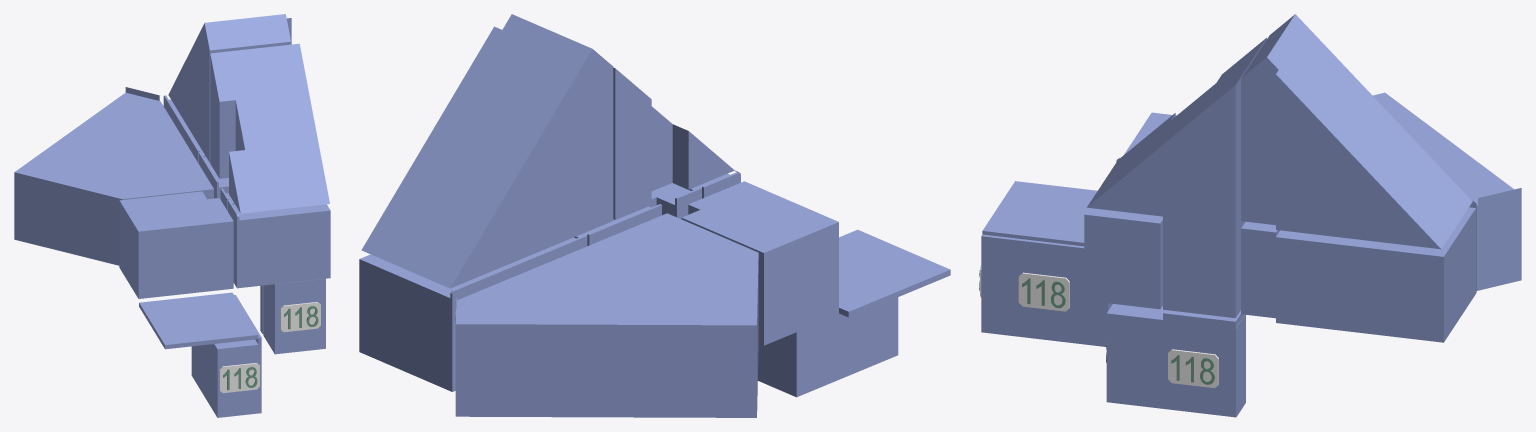
The picture shows the model from 3 angles, left to right: view 1: azimuth 30°, elevation 25°; view 2: azimuth 150°, elevation 25°; view 3: azimuth 270°, elevation 25°; orthographic projection. The views are drawn at different scales.
Visible parts, largest first — view 1: g_5, g_3, g_10, g_9, g_2, g_13, g_1, g_0, g_4, g_29, g_21, g_6 (+1 smaller); view 2: g_5, g_2, g_10, g_6, g_3, g_1, g_13, g_7, g_9; view 3: g_2, g_6, g_1, g_4, g_12, g_5, g_9, g_11, g_3, g_13, g_0, g_8 (+3 smaller).
Part boxes in pixels (x1,y1,x2,y2): g_5: [14, 87, 213, 265]; g_3: [210, 47, 329, 214]; g_10: [119, 191, 233, 298]; g_9: [227, 199, 330, 288]; g_2: [168, 14, 291, 162]; g_13: [139, 292, 258, 349]; g_1: [191, 295, 261, 417]; g_0: [263, 278, 325, 354]; g_4: [267, 43, 314, 125]; g_29: [280, 302, 320, 332]; g_21: [219, 363, 259, 393]; g_6: [163, 95, 205, 163]; g_5: [455, 213, 758, 417]; g_2: [361, 14, 613, 288]; g_10: [681, 181, 838, 345]; g_6: [359, 235, 587, 391]; g_3: [613, 67, 739, 219]; g_1: [758, 297, 898, 397]; g_13: [839, 229, 950, 317]; g_7: [574, 183, 701, 245]; g_9: [673, 172, 740, 198]; g_2: [1241, 14, 1472, 249]; g_6: [1276, 199, 1476, 342]; g_1: [981, 234, 1112, 346]; g_4: [1163, 68, 1246, 225]; g_12: [1146, 306, 1245, 417]; g_5: [1372, 92, 1521, 290]; g_9: [1084, 158, 1162, 309]; g_11: [1163, 217, 1245, 318]; g_3: [1087, 37, 1266, 216]; g_13: [982, 181, 1097, 246]; g_0: [1106, 304, 1152, 406]; g_8: [1241, 221, 1279, 318].
Size of the model in its own units: 9.92 by 10.1 by 13.81.
